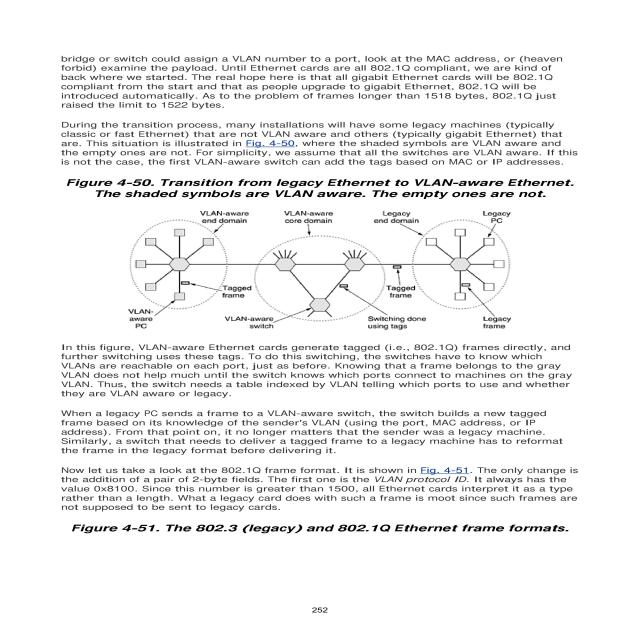diagram: (15, 171, 617, 338)
